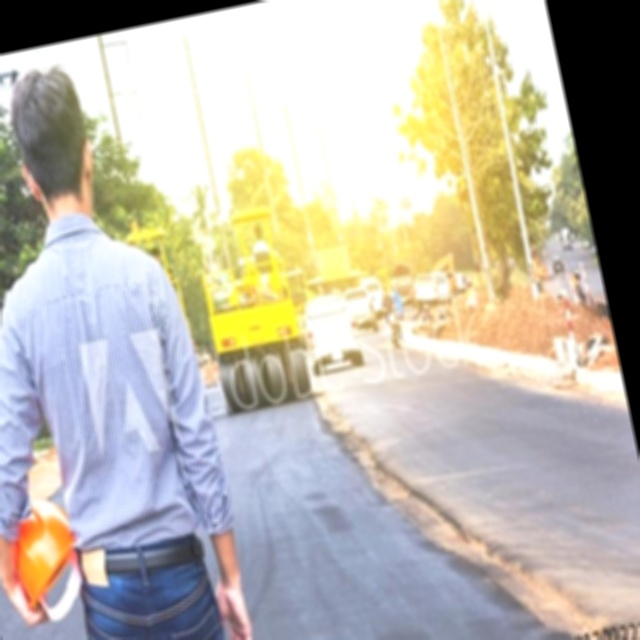Con_Casco: (0, 55, 104, 220)
Sin_Chaleco: (0, 219, 238, 587)
